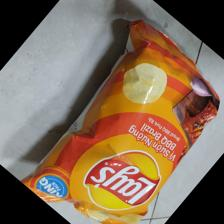Lays: (19, 17, 222, 224)
